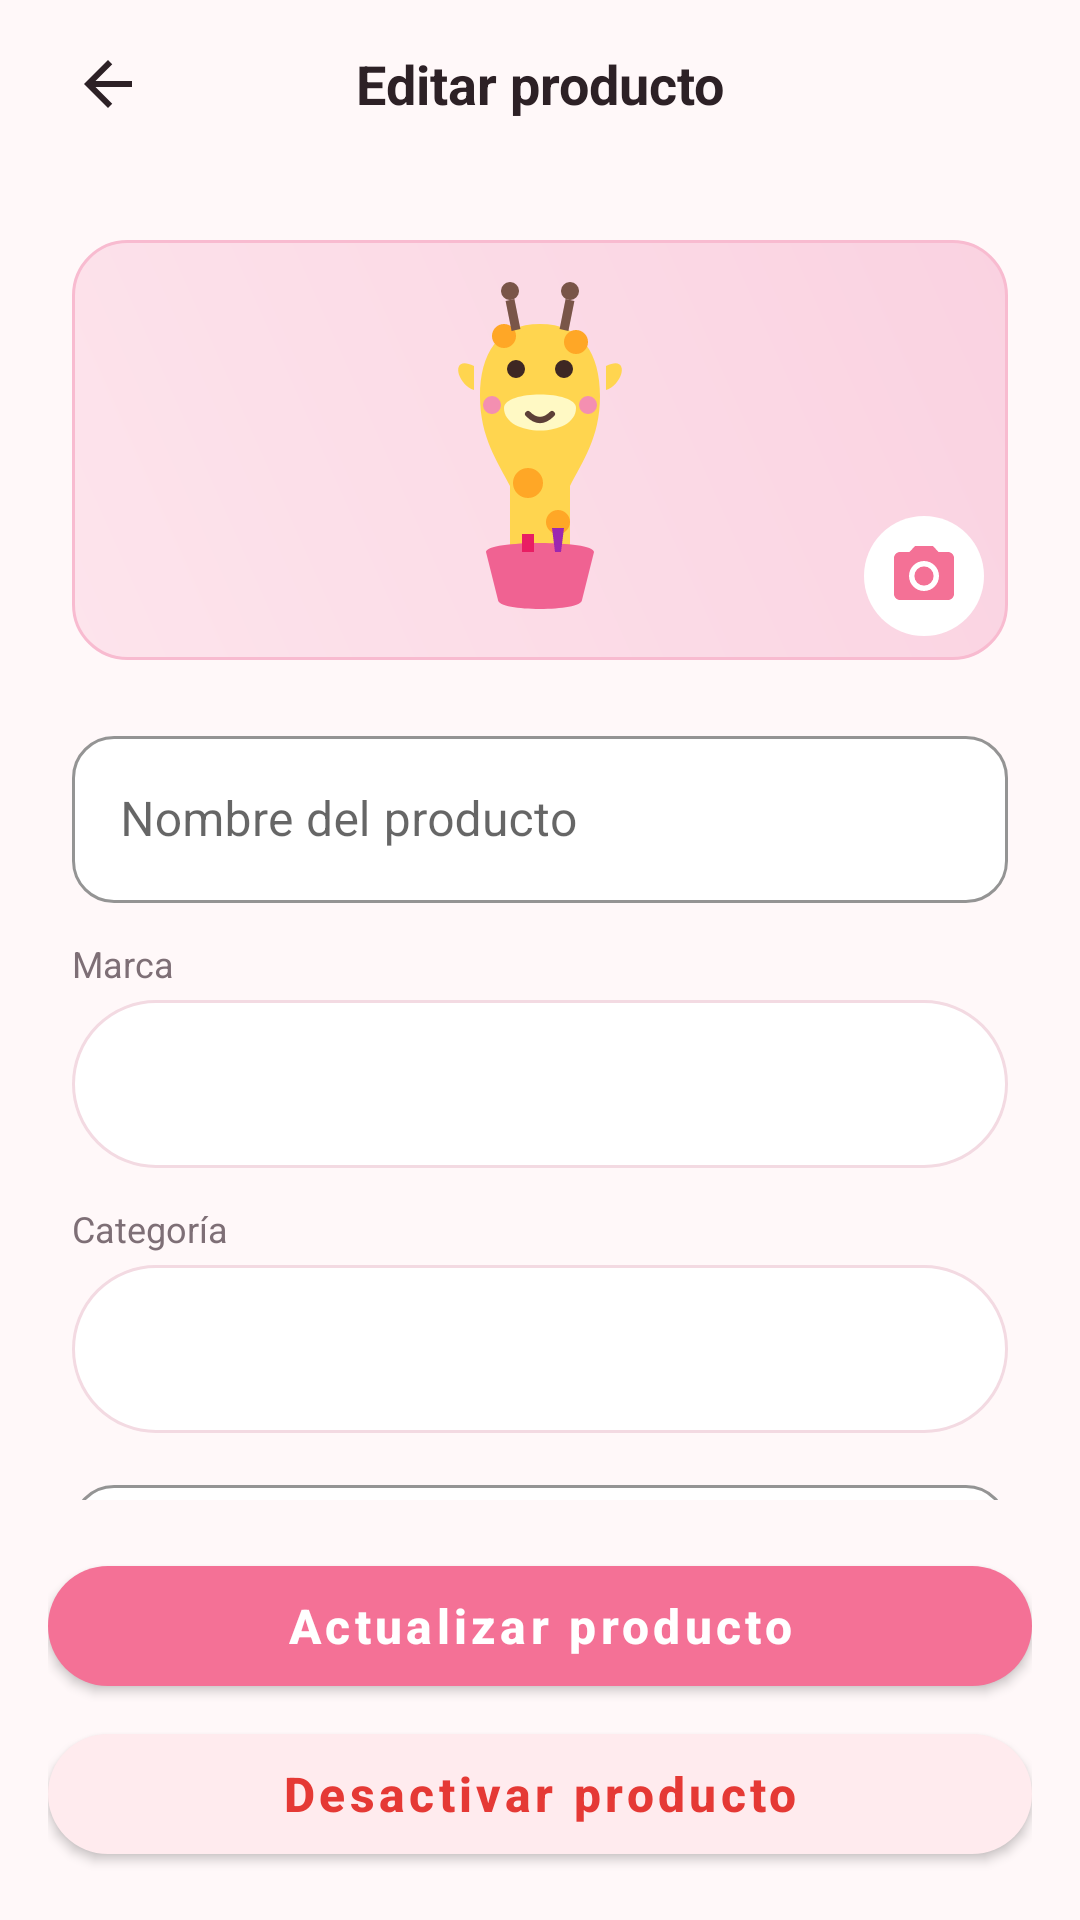

Screen size 1080×1920. Icon name, then its box in pixels as (left=x1, top=y1, right=x2, bottom=y2):
Volver: (left=84, top=60, right=132, bottom=108)
